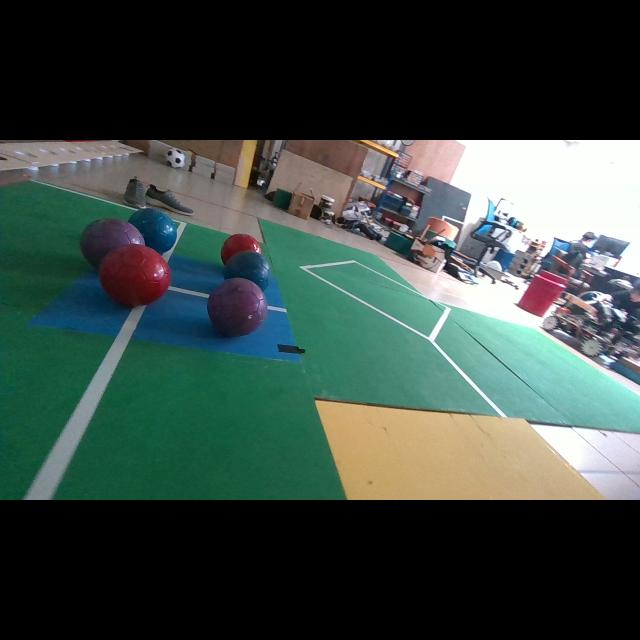B: (129, 209, 175, 254), (224, 250, 270, 291)
P: (208, 278, 268, 336), (80, 218, 145, 268)
R: (99, 244, 171, 307), (221, 234, 261, 264)
